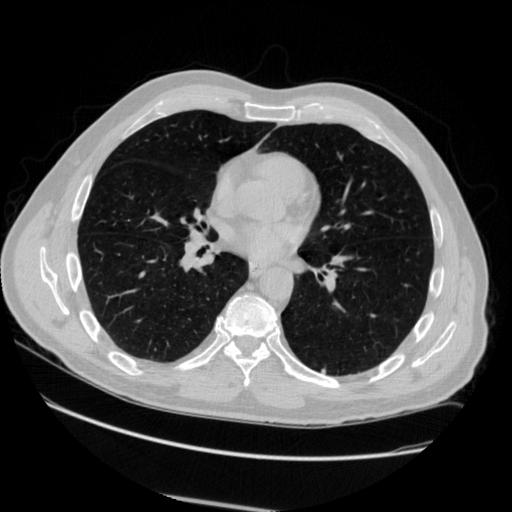nodule: (318, 366, 329, 377)
